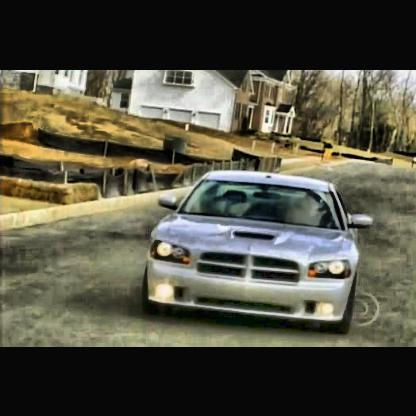Dodge Charger SRT-8 2009: (143, 171, 375, 334)
